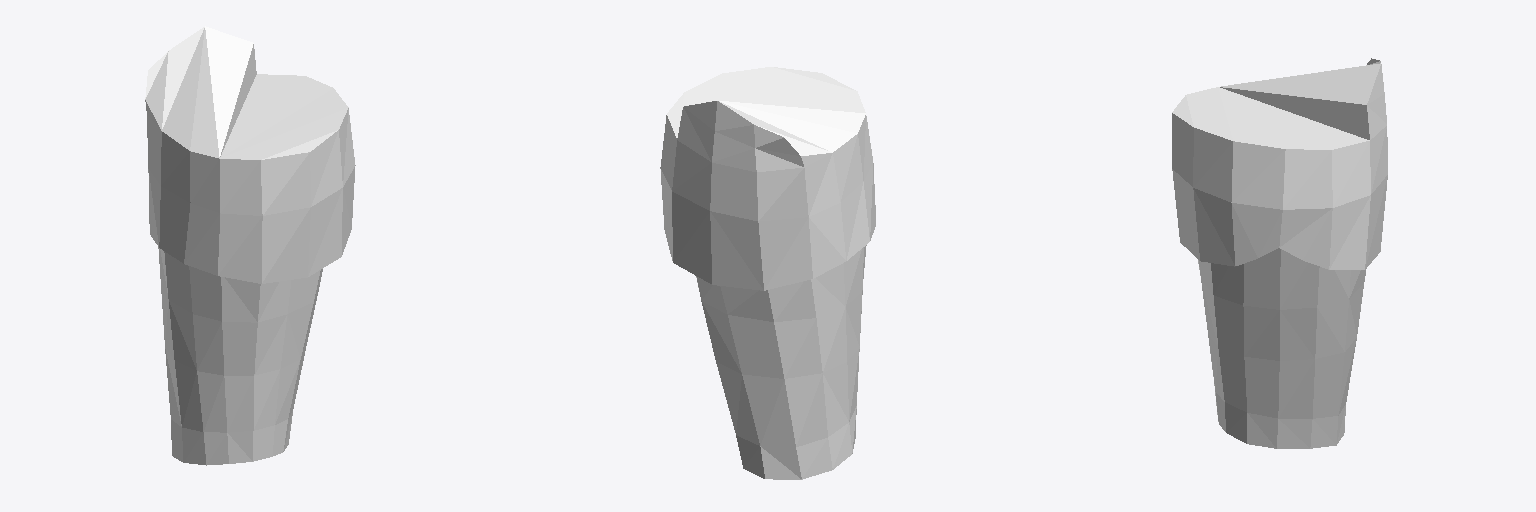
File: qiqi_muslo_der.obj
The picture shows the model from 3 angles: view 1: azimuth 30°, elevation 25°; view 2: azimuth 150°, elevation 25°; view 3: azimuth 270°, elevation 25°; orthographic projection.
Parts seen in each view (by area): view 1: 七七_mesh_七七.004; view 2: 七七_mesh_七七.004; view 3: 七七_mesh_七七.004.
Boxes of the visible parts, x1,y1,x2,y2 form: 七七_mesh_七七.004: [145, 26, 355, 465]; 七七_mesh_七七.004: [660, 67, 875, 479]; 七七_mesh_七七.004: [1172, 58, 1387, 448].
Bounding box in the file's own units: 1.54 × 3.24 × 1.65.